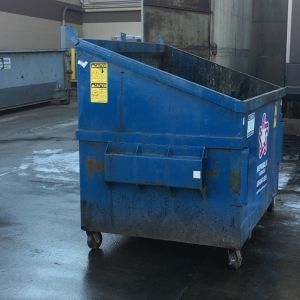Dumpster: (64, 24, 288, 271)
